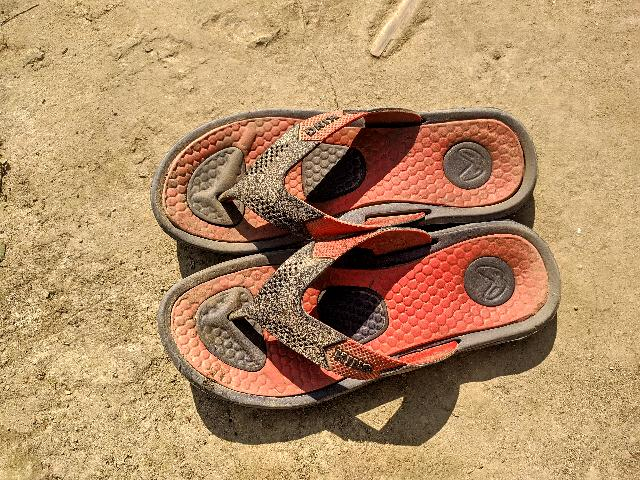sandal: (151, 206, 582, 424), (135, 103, 552, 245)
